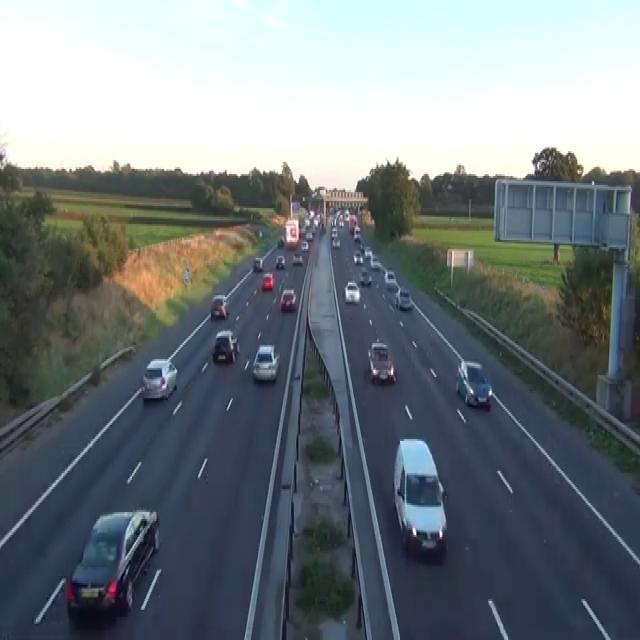Car: (66, 508, 160, 620), (393, 437, 447, 555), (455, 359, 492, 407), (141, 357, 177, 400), (367, 340, 396, 384), (252, 343, 280, 381), (212, 329, 239, 363), (210, 293, 229, 320), (395, 286, 413, 310), (279, 288, 296, 311), (343, 281, 360, 304), (261, 272, 274, 290), (359, 267, 371, 286), (384, 270, 396, 286), (253, 256, 263, 272), (292, 251, 303, 265), (275, 254, 285, 268), (370, 254, 380, 268), (353, 251, 363, 263), (353, 229, 361, 242), (364, 245, 372, 258), (300, 240, 308, 251), (332, 237, 340, 247), (331, 226, 337, 238), (305, 231, 313, 240), (277, 237, 284, 247), (338, 218, 344, 228), (304, 217, 310, 227), (359, 242, 365, 250), (354, 224, 360, 231), (344, 210, 349, 218), (309, 210, 314, 218), (258, 230, 262, 237)
Truck: (283, 219, 299, 245)
